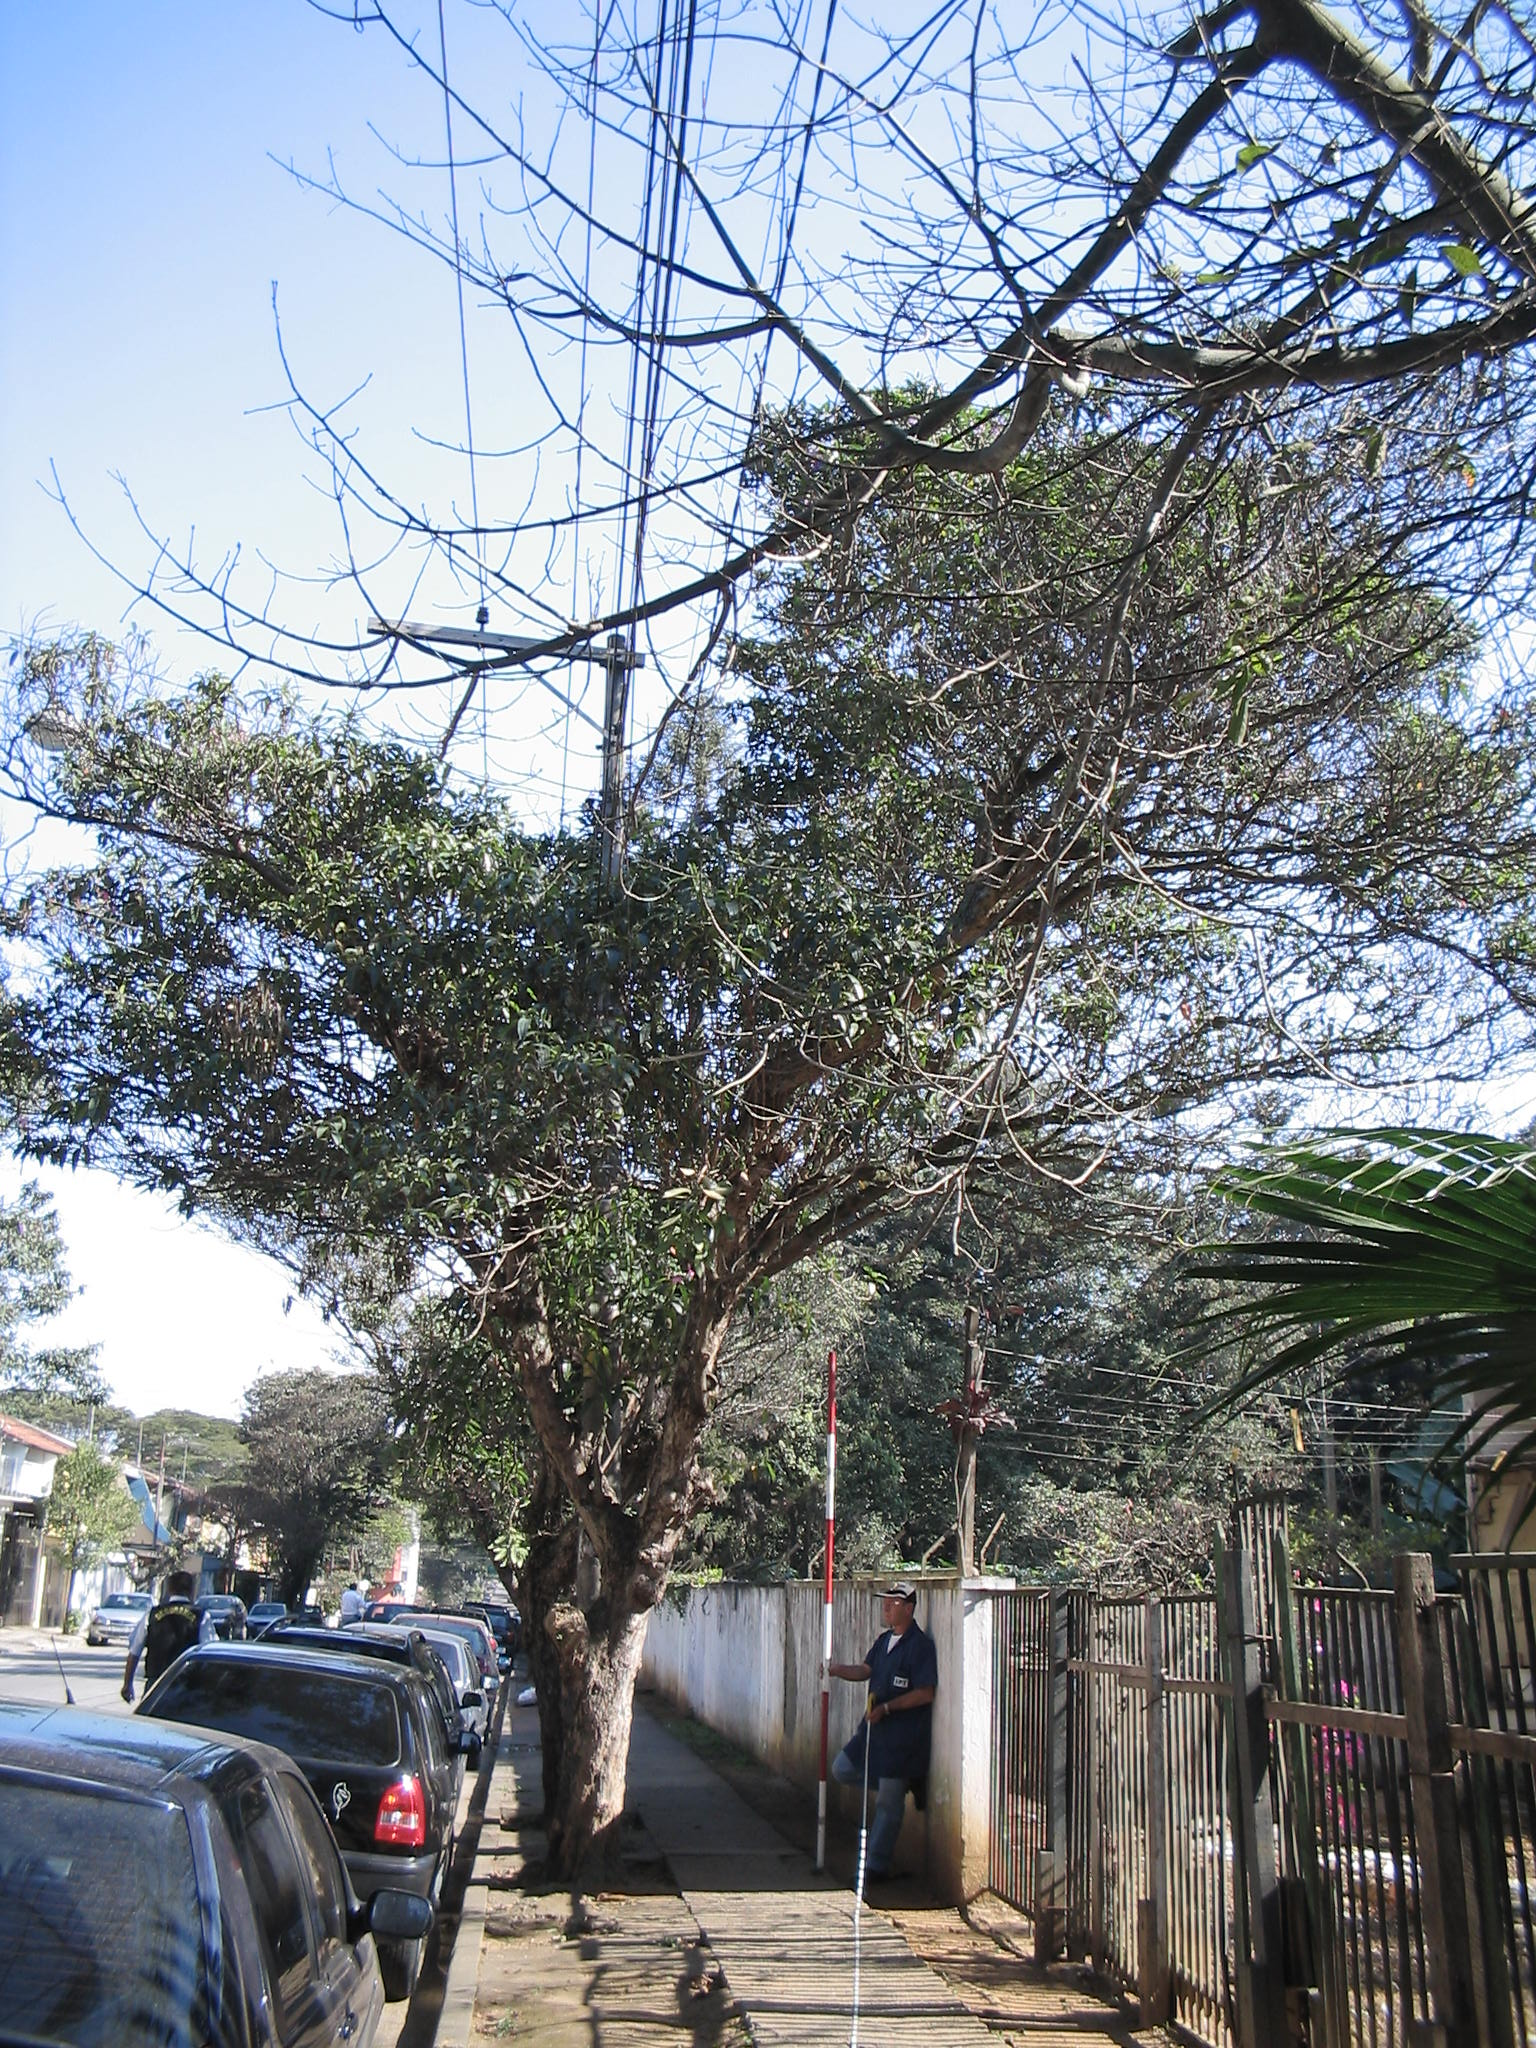crown: (27, 364, 1526, 1482)
stem: (524, 1640, 657, 1890)
stick: (799, 1347, 850, 1875)
tree: (11, 361, 1526, 1893)
